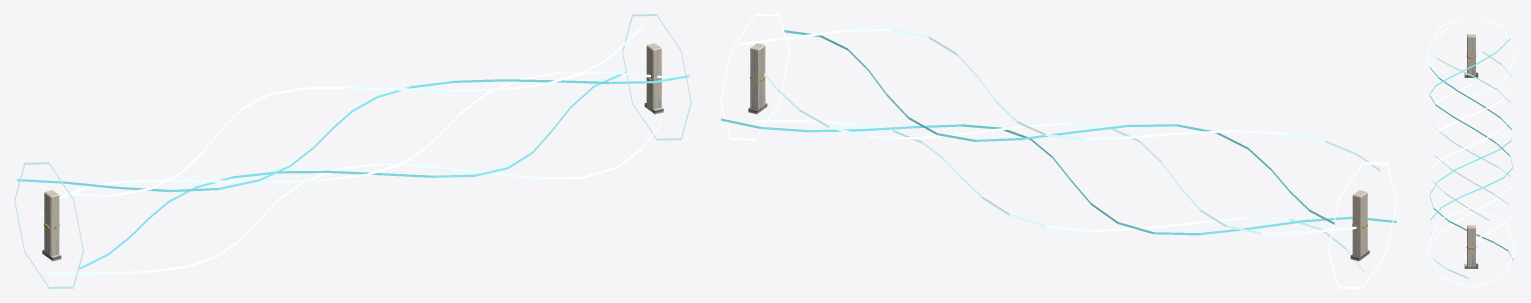
File: windLane.glb
3 views of the same model, side by side, from view 1: azimuth 30°, elevation 25°; view 2: azimuth 150°, elevation 25°; view 3: azimuth 270°, elevation 25° (orthographic). The views are drawn at different scales.
Parts seen in each view (by area): view 1: Wind.Stream.03, Wind.Stream.00, Wind.Stream.04, Wind.Stream.02, Wind.Stream.01, Wind.Pylon.L, Wind.Pylon.R, Wind.FieldHoop.L, Wind.FieldHoop.R; view 2: Wind.Stream.04, Wind.Stream.01, Wind.Stream.00, Wind.Stream.02, Wind.Stream.03, Wind.Pylon.R, Wind.Pylon.L, Wind.FieldHoop.L, Wind.FieldHoop.R; view 3: Wind.Stream.04, Wind.Stream.03, Wind.Stream.00, Wind.Stream.02, Wind.Stream.01, Wind.FieldHoop.R, Wind.FieldHoop.L, Wind.Pylon.R, Wind.Pylon.L.
Boxes of the visible parts, left/top/right/bottom form: Wind.Stream.03: left=17, top=75, right=689, bottom=192; Wind.Stream.00: left=47, top=124, right=660, bottom=274; Wind.Stream.04: left=63, top=23, right=644, bottom=196; Wind.Stream.02: left=39, top=71, right=664, bottom=216; Wind.Stream.01: left=79, top=71, right=625, bottom=269; Wind.Pylon.L: left=44, top=190, right=59, bottom=256; Wind.Pylon.R: left=646, top=43, right=661, bottom=111; Wind.FieldHoop.L: left=14, top=162, right=83, bottom=288; Wind.FieldHoop.R: left=622, top=14, right=691, bottom=140; Wind.Stream.04: left=739, top=28, right=1380, bottom=171; Wind.Stream.01: left=721, top=118, right=1396, bottom=235; Wind.Stream.00: left=755, top=120, right=1364, bottom=273; Wind.Stream.02: left=764, top=73, right=1356, bottom=234; Wind.Stream.03: left=784, top=30, right=1334, bottom=224; Wind.Pylon.R: left=750, top=43, right=765, bottom=109; Wind.Pylon.L: left=1352, top=190, right=1367, bottom=256; Wind.FieldHoop.L: left=1328, top=162, right=1397, bottom=288; Wind.FieldHoop.R: left=720, top=14, right=789, bottom=140; Wind.Stream.04: left=1429, top=26, right=1512, bottom=220; Wind.Stream.03: left=1429, top=38, right=1512, bottom=233; Wind.Stream.00: left=1429, top=84, right=1512, bottom=278; Wind.Stream.02: left=1429, top=51, right=1513, bottom=246; Wind.Stream.01: left=1429, top=67, right=1513, bottom=260; Wind.FieldHoop.R: left=1426, top=206, right=1516, bottom=288; Wind.FieldHoop.L: left=1426, top=14, right=1516, bottom=96; Wind.Pylon.R: left=1467, top=225, right=1475, bottom=267; Wind.Pylon.L: left=1467, top=34, right=1475, bottom=77.
Size of what is drawn, in the model's own units: 203 by 40 by 40.
Materials: 5 (2 with a texture image).
